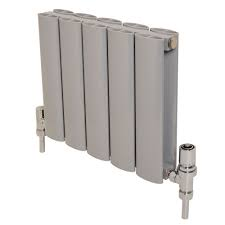Radiator: (35, 7, 197, 200)
